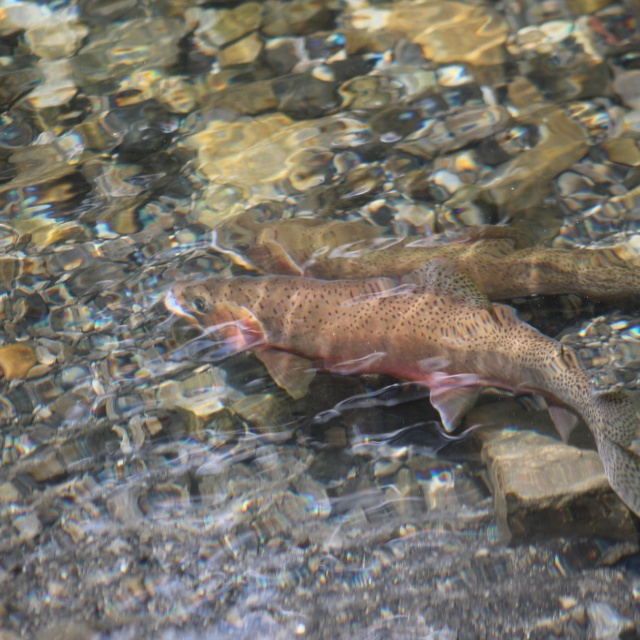Fish: (191, 243, 638, 444)
